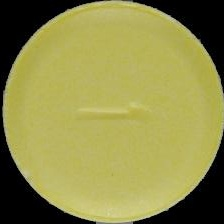33261-983: (0, 0, 224, 224)
